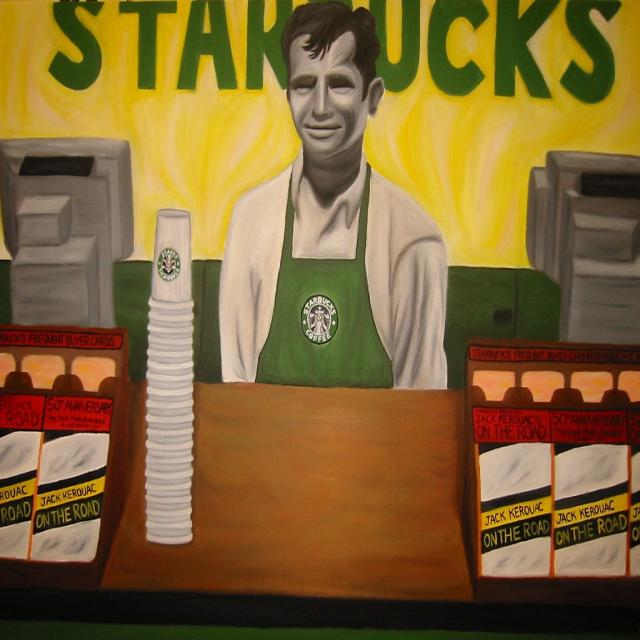starbucks: (303, 297, 340, 345), (159, 248, 181, 281)
